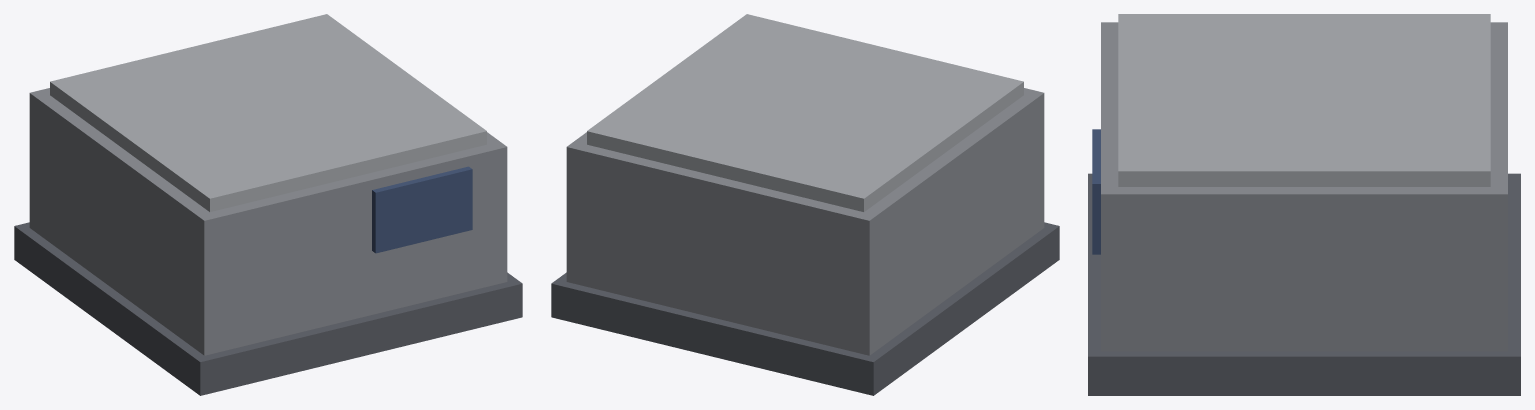
File: tower_foundation.glb
The picture shows the model from 3 angles, left to right: view 1: azimuth 30°, elevation 25°; view 2: azimuth 150°, elevation 25°; view 3: azimuth 270°, elevation 25°; orthographic projection. The views are drawn at different scales.
Parts seen in each view (by area): view 1: tower_foundation, flag; view 2: tower_foundation; view 3: tower_foundation, flag.
Part boxes in pixels (x1,y1,x2,y2): tower_foundation: [14, 14, 522, 395]; flag: [372, 166, 472, 253]; tower_foundation: [551, 14, 1059, 395]; tower_foundation: [1088, 14, 1520, 395]; flag: [1092, 129, 1100, 254].
Size of the model in its own units: 1 by 0.54 by 1.
